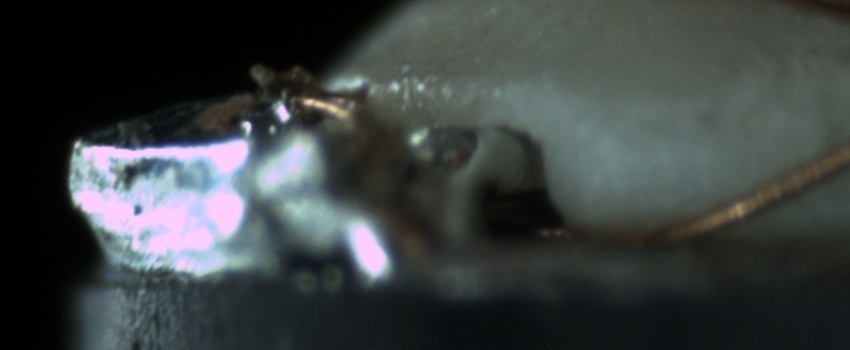TE: (279, 72, 366, 135)
